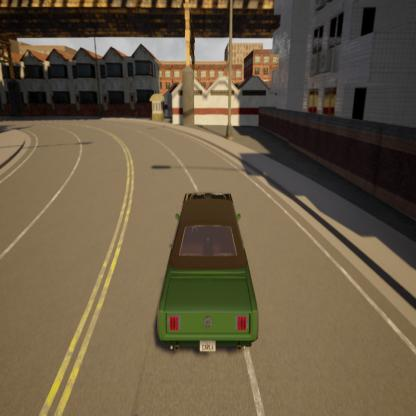Cars: (156, 192, 259, 352)
